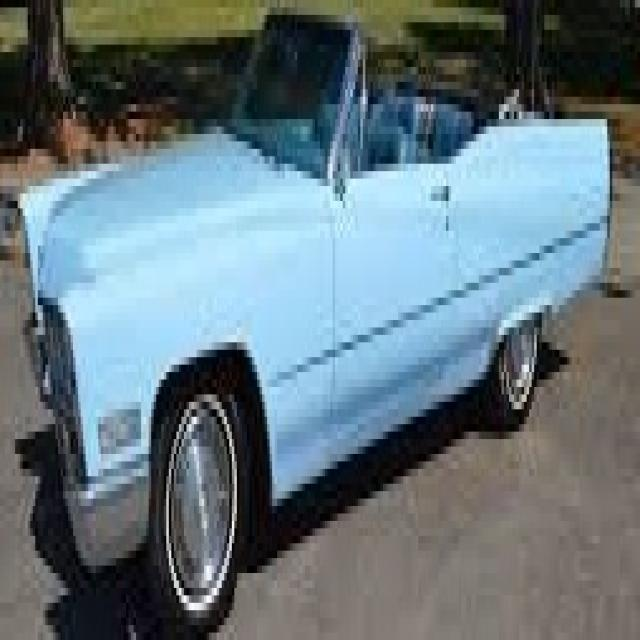blue: (24, 122, 640, 565)
